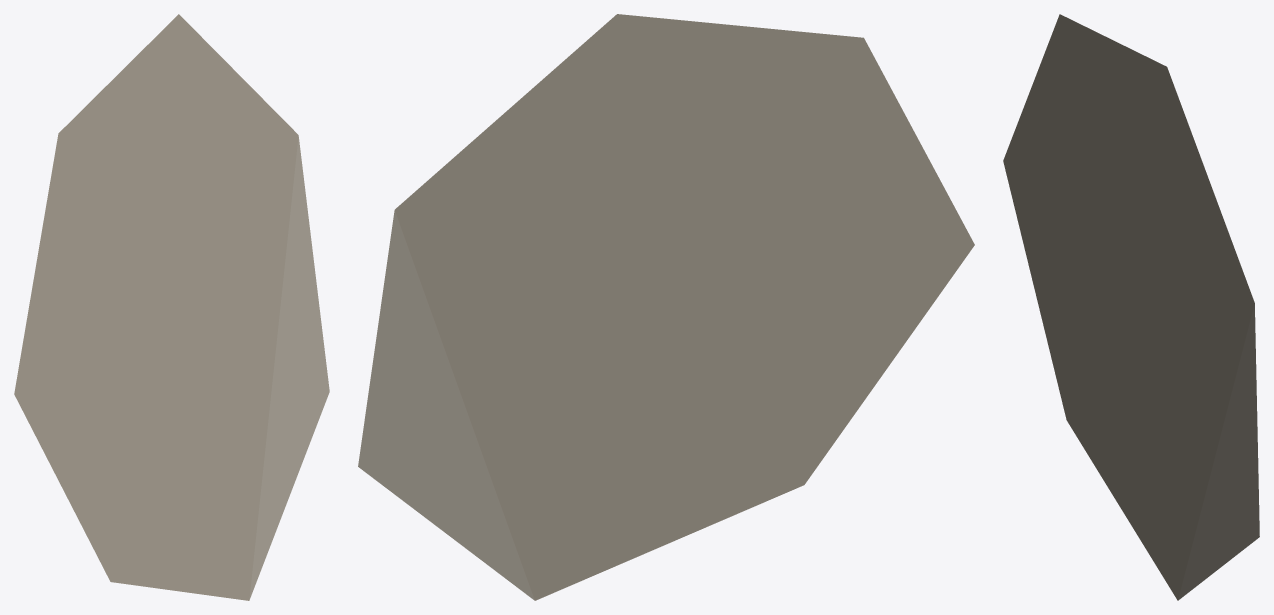
File: SM_MS3_Feed_Eco_09_1.fbx
3 renders of one model, left to right at view 1: azimuth 30°, elevation 25°; view 2: azimuth 150°, elevation 25°; view 3: azimuth 270°, elevation 25°, orthographic. The views are drawn at different scales.
Visible parts, largest first — view 1: SM_MS3_Feed_Eco_09_1; view 2: SM_MS3_Feed_Eco_09_1; view 3: SM_MS3_Feed_Eco_09_1.
Boxes of the visible parts, <box> form: SM_MS3_Feed_Eco_09_1: <box>14,14,329,600</box>; SM_MS3_Feed_Eco_09_1: <box>358,14,974,600</box>; SM_MS3_Feed_Eco_09_1: <box>1003,14,1259,600</box>.
Bounding box in the file's own units: 2.5 × 1.43 × 3.09.
